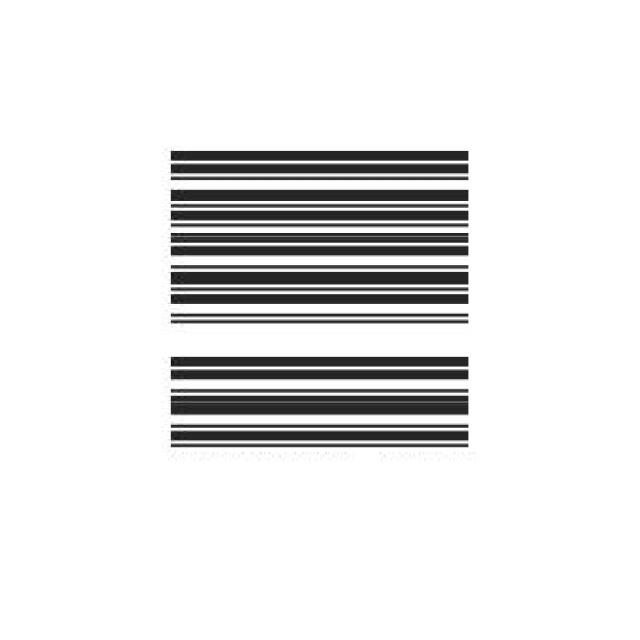Barkod: (162, 139, 482, 459)
